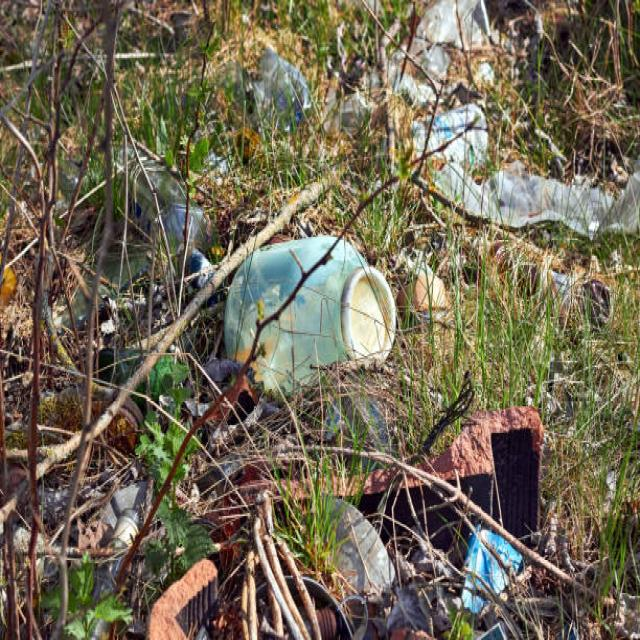plastic: (84, 535, 514, 613), (243, 235, 389, 369)
